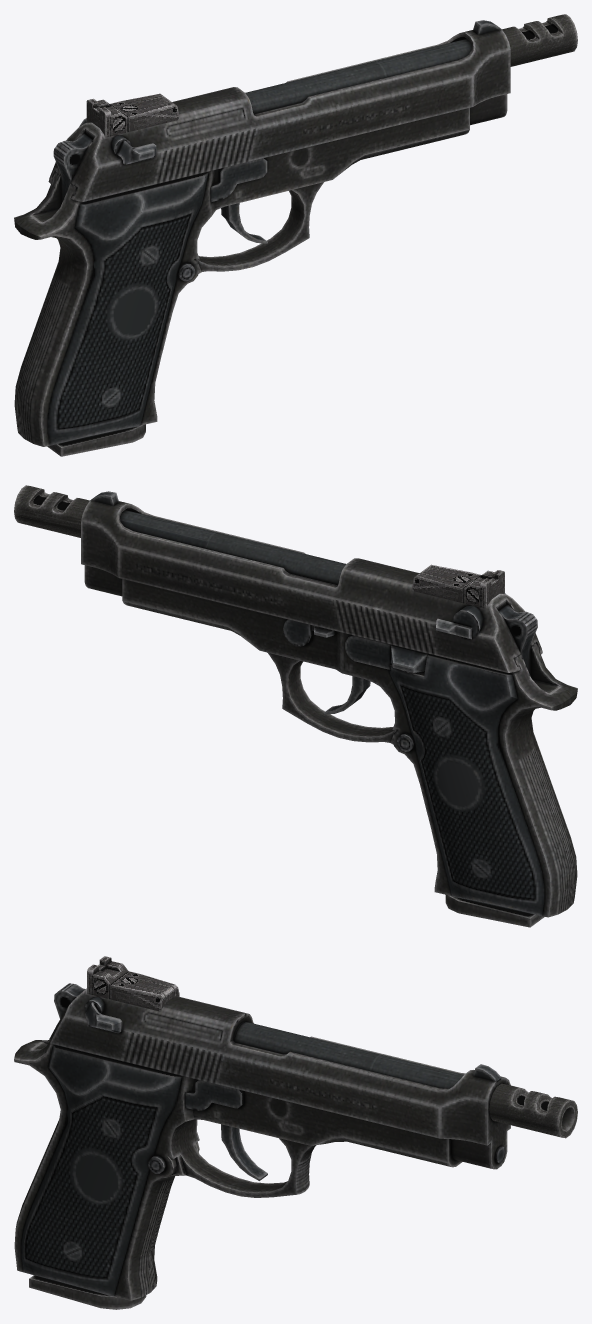
The model's file is Pistol01.FBX.
3 views of the same model, one above another, from view 1: azimuth 30°, elevation 25°; view 2: azimuth 150°, elevation 25°; view 3: azimuth 330°, elevation 25° (orthographic).
Visible parts, largest first — view 1: Pistol01_Body01, Pistol01_Imp02, Pistol01_Imp01; view 2: Pistol01_Body01, Pistol01_Imp02, Pistol01_Imp01; view 3: Pistol01_Body01, Pistol01_Imp01, Pistol01_Imp02.
Boxes of the visible parts, x1=… form: Pistol01_Body01: x1=14, y1=20, x2=510, y2=456; Pistol01_Imp02: x1=86, y1=93, x2=179, y2=137; Pistol01_Imp01: x1=502, y1=14, x2=577, y2=66; Pistol01_Body01: x1=81, y1=491, x2=577, y2=927; Pistol01_Imp02: x1=412, y1=564, x2=504, y2=608; Pistol01_Imp01: x1=14, y1=485, x2=89, y2=537; Pistol01_Body01: x1=14, y1=983, x2=510, y2=1309; Pistol01_Imp01: x1=489, y1=1083, x2=577, y2=1138; Pistol01_Imp02: x1=87, y1=956, x2=179, y2=1011.
Size of the model in its own units: 0.221 by 0.1276 by 0.0303.
Materials: 3 (3 with a texture image).
